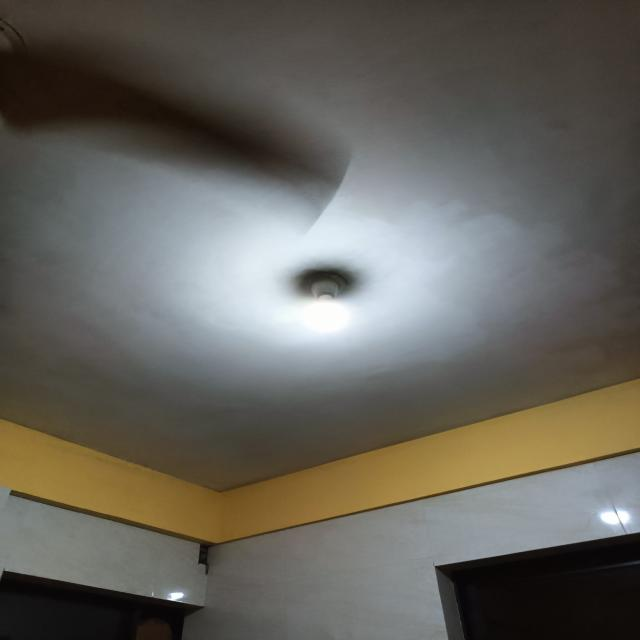bulb_on: (299, 271, 353, 338)
